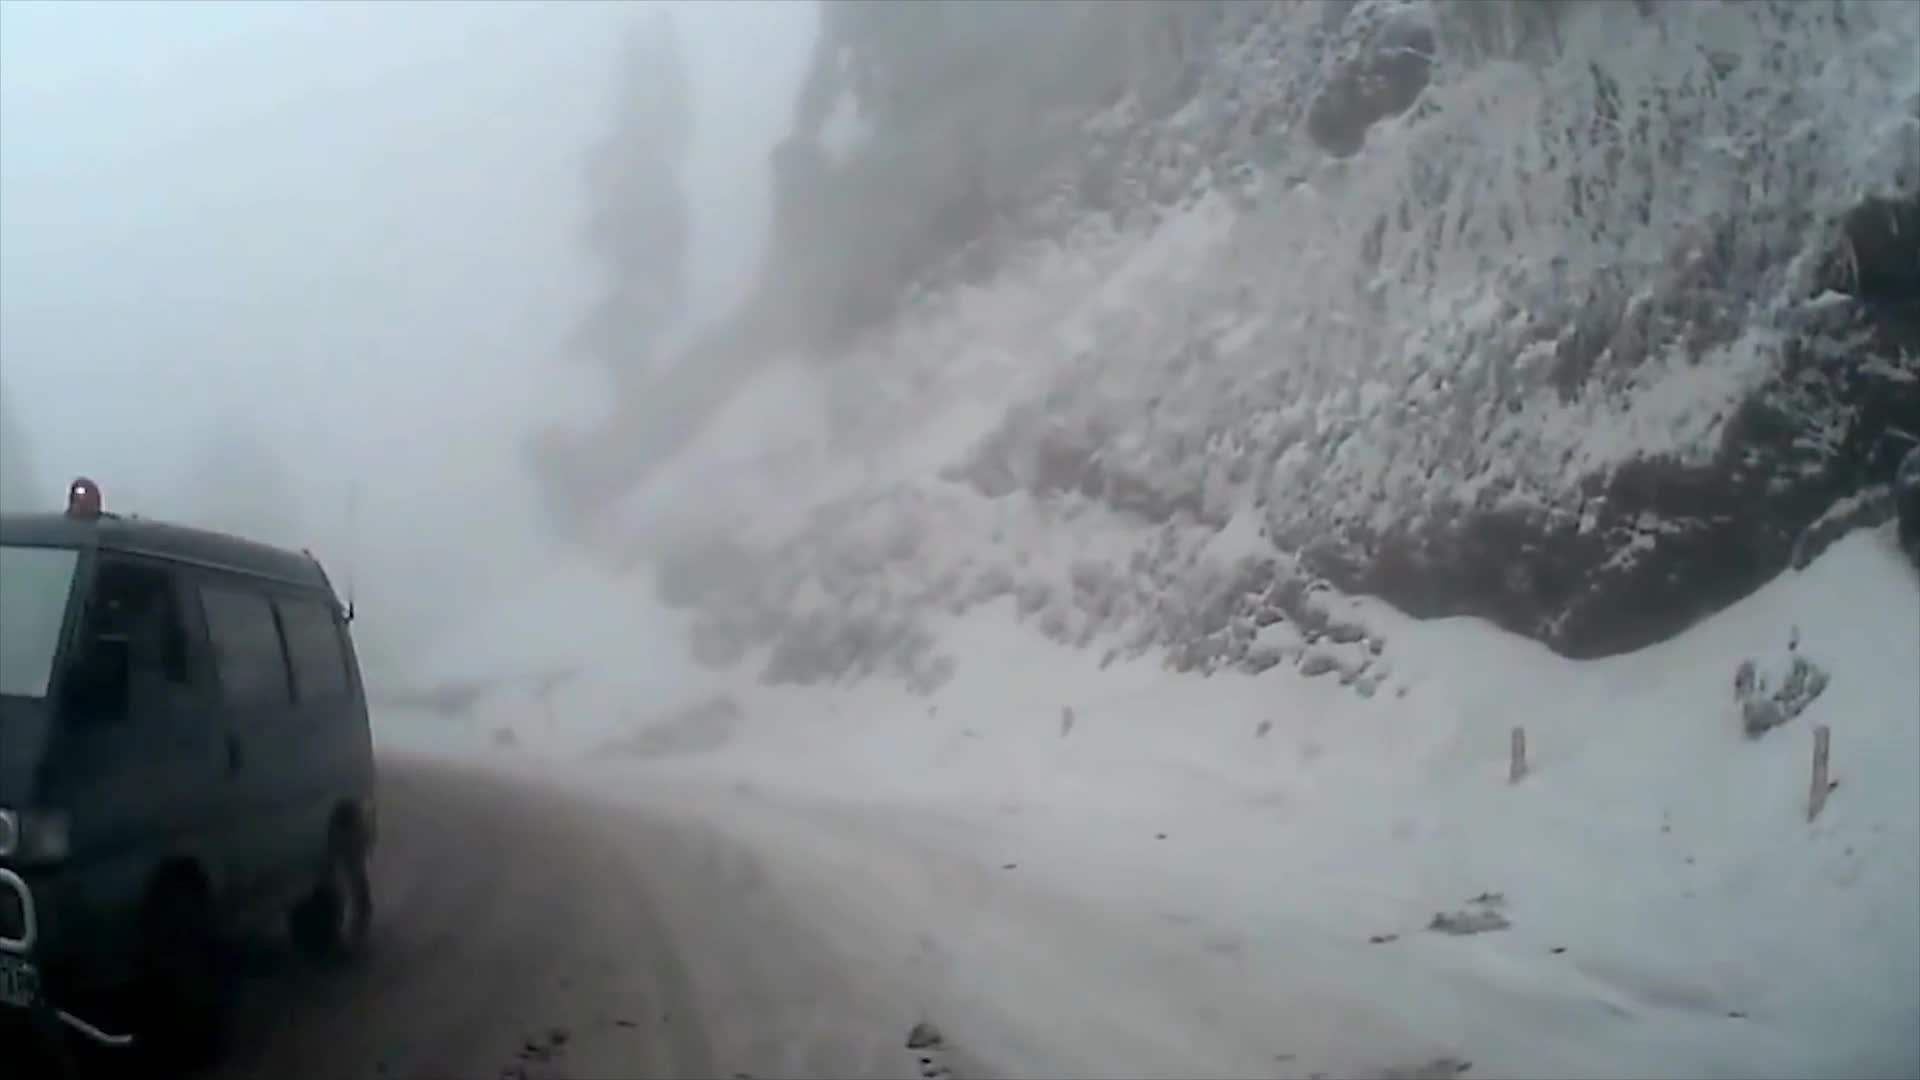vehicle: (0, 476, 380, 1055)
